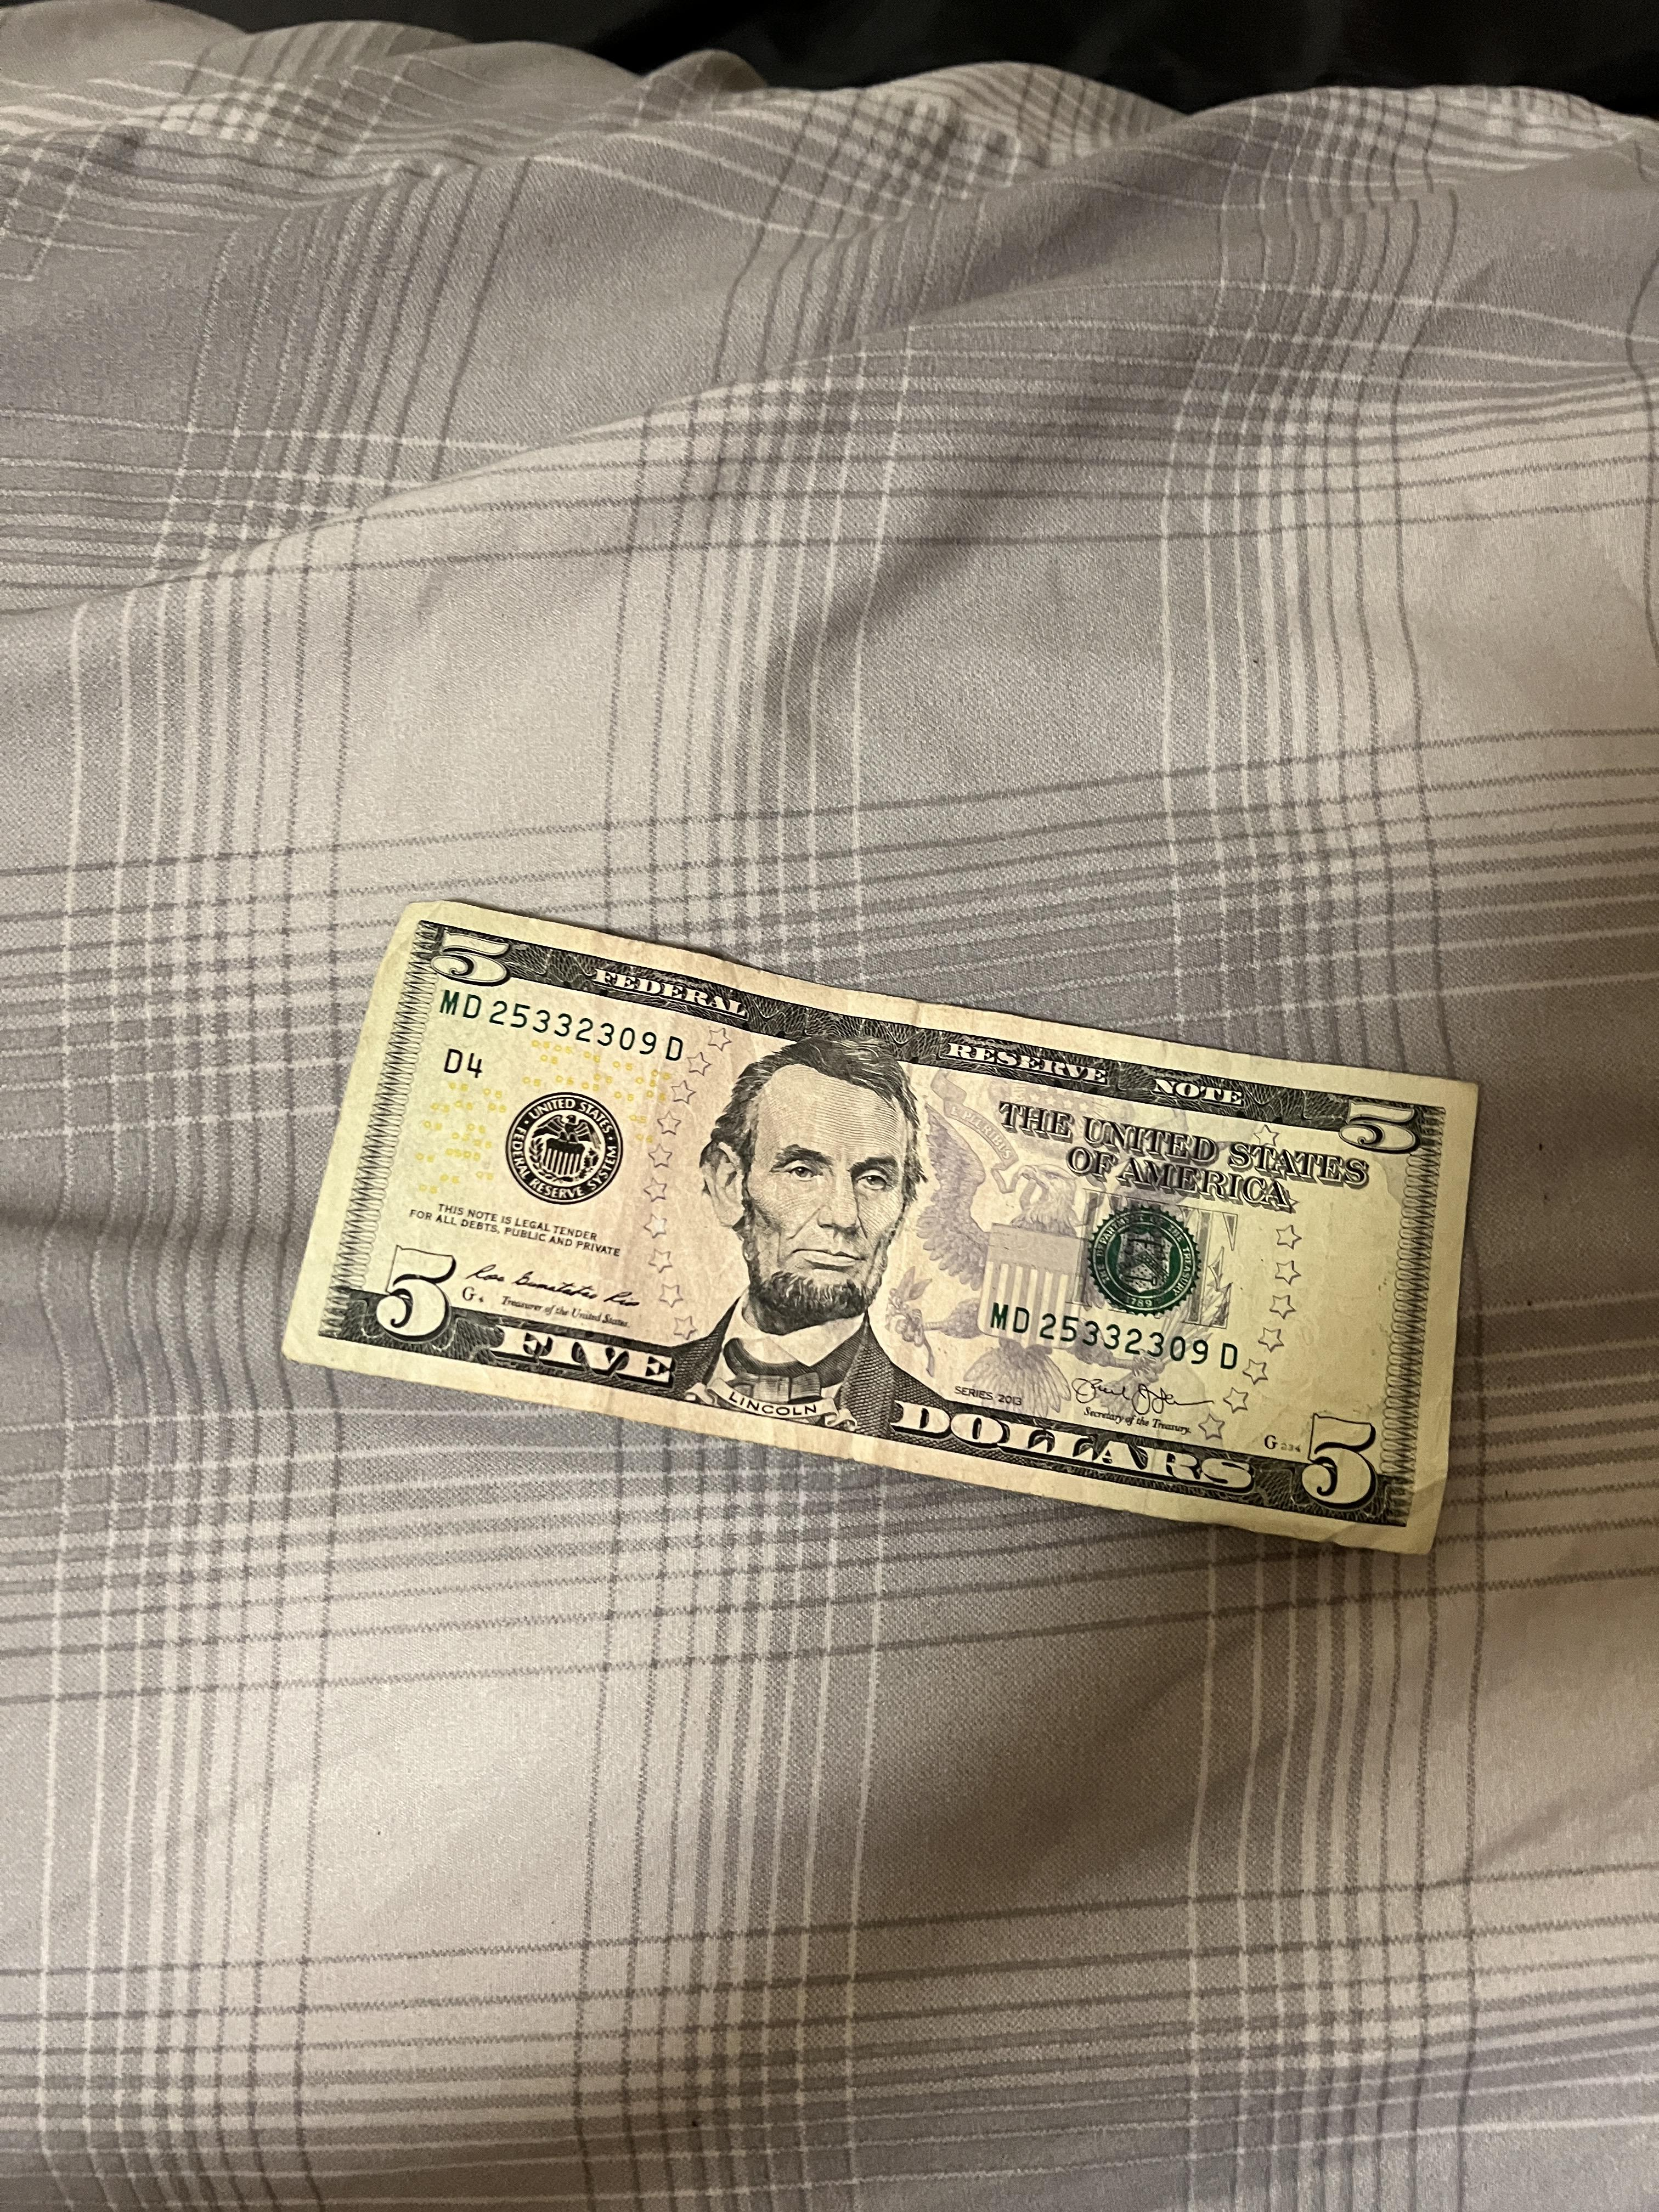FiveBill: (274, 892, 1486, 1569)
